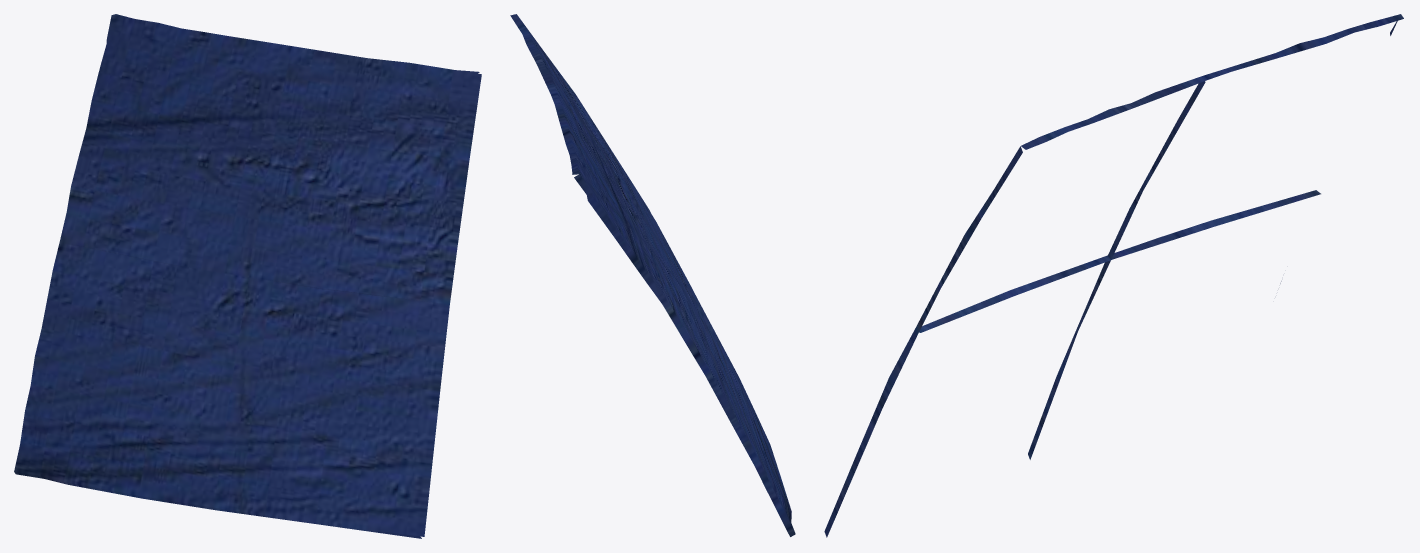
3 views of the same model, side by side, from view 1: azimuth 30°, elevation 25°; view 2: azimuth 150°, elevation 25°; view 3: azimuth 270°, elevation 25° (orthographic). The views are drawn at different scales.
Bounding box in the file's own units: 1170980 × 1119016 × 1236796.
1 material, 1 textured.
